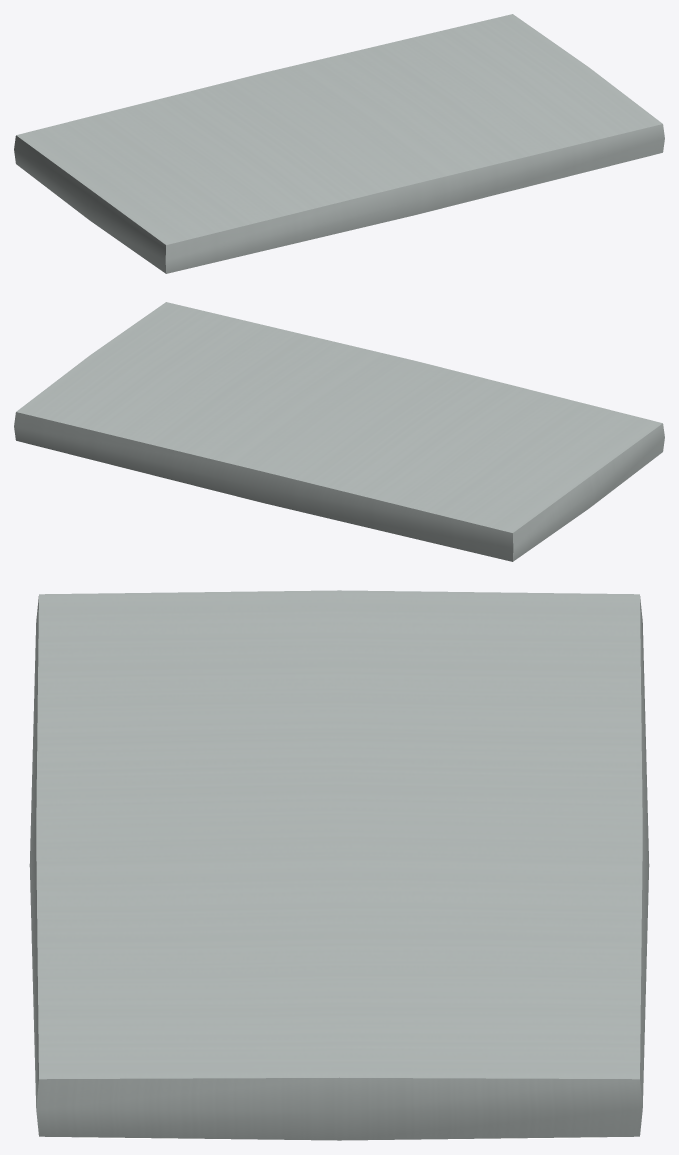
The model's file is ceiling-light.glb.
3 renders of one model, top to bottom at view 1: azimuth 30°, elevation 25°; view 2: azimuth 150°, elevation 25°; view 3: azimuth 270°, elevation 25°, orthographic. The views are drawn at different scales.
Visible parts, largest first — view 1: ceiling-light; view 2: ceiling-light; view 3: ceiling-light.
Part boxes in pixels (x1,y1,x2,y2): ceiling-light: (14, 14, 664, 273); ceiling-light: (14, 302, 664, 561); ceiling-light: (29, 590, 649, 1140).
Size of the model in its own units: 0.64 by 0.0535 by 0.34.
2 materials, 2 textured.
